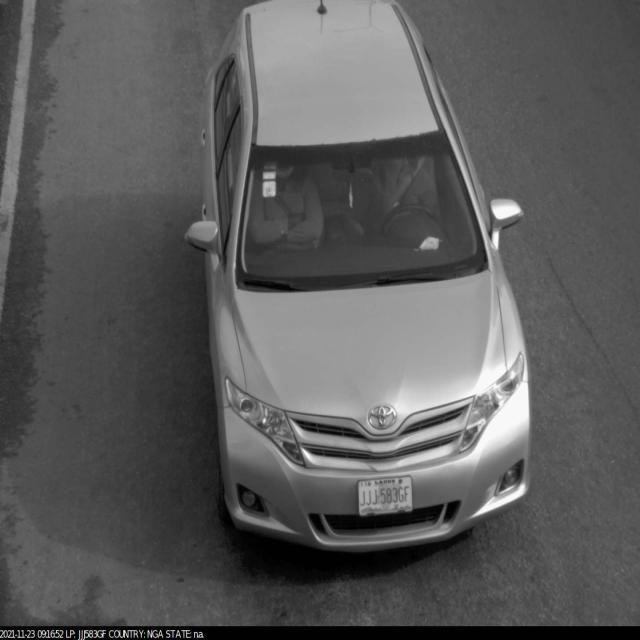windshield: (228, 130, 497, 298)
